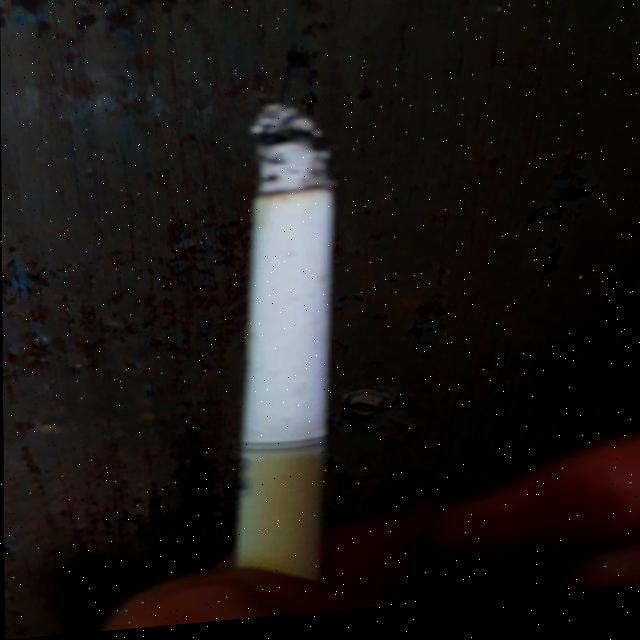cigarette: (234, 107, 338, 576)
